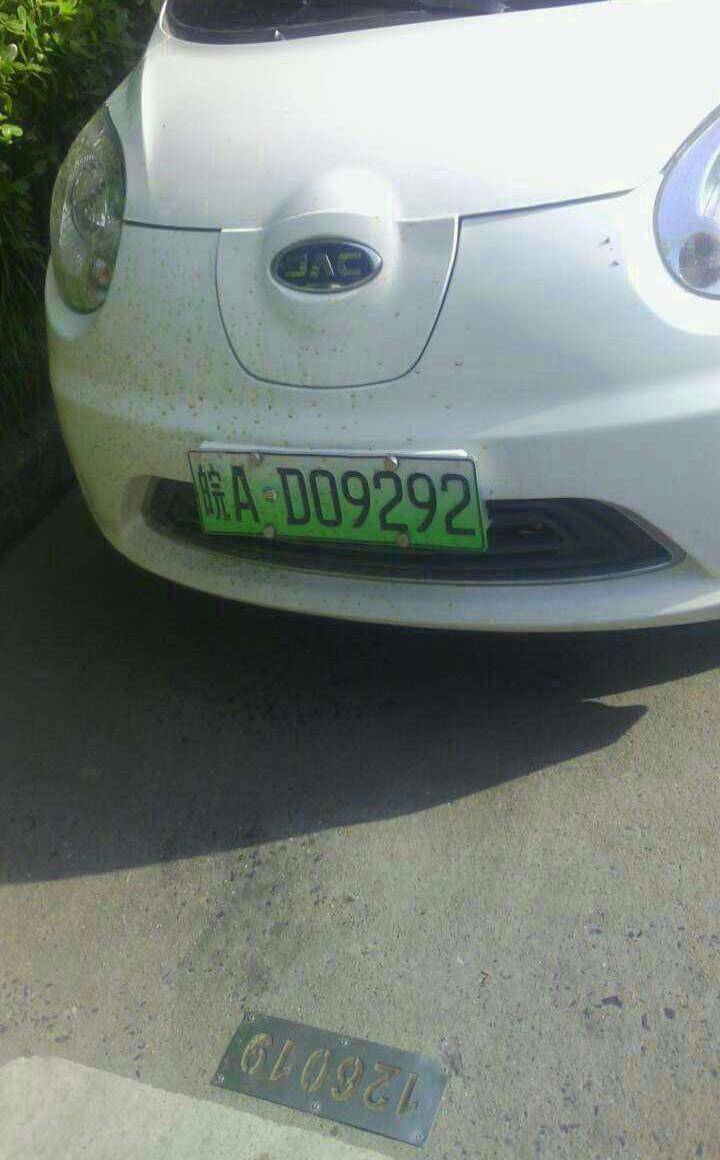car_id: (191, 448, 482, 547)
